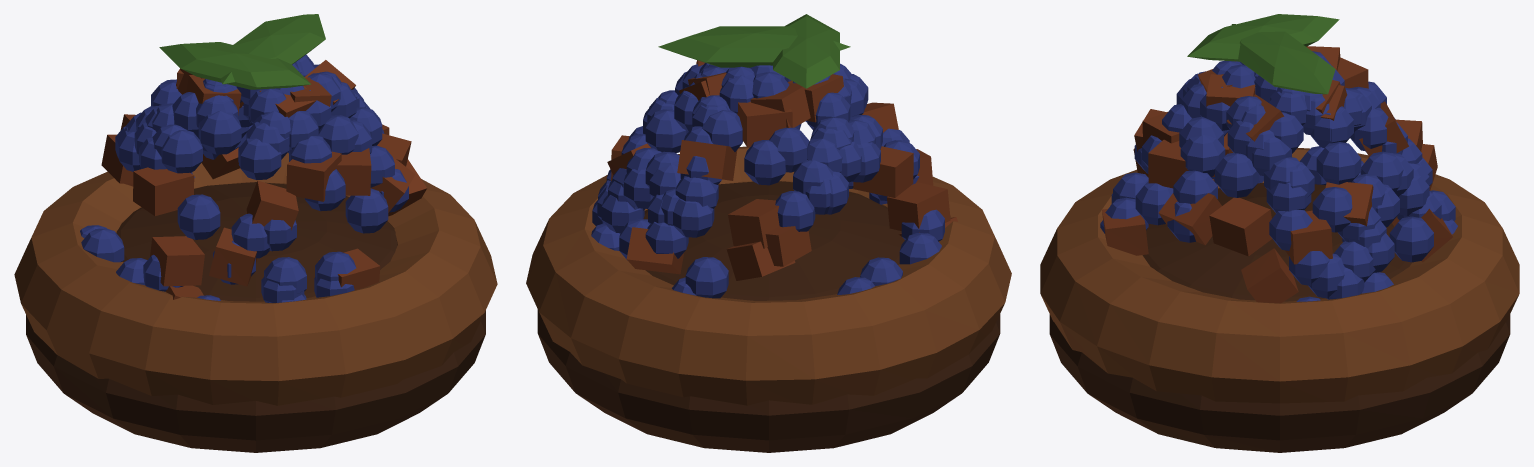
Rendered from VFP_Secret_GraveShroom.obj.
3 views of the same model, side by side, from view 1: azimuth 30°, elevation 25°; view 2: azimuth 150°, elevation 25°; view 3: azimuth 270°, elevation 25° (orthographic).
Parts seen in each view (by area): view 1: Cap, Berries, Under, Meat, Leaves; view 2: Cap, Berries, Under, Meat, Leaves; view 3: Cap, Berries, Under, Meat, Leaves.
Part boxes in pixels (x1,y1,x2,y2): Cap: (14, 152, 497, 405); Berries: (80, 54, 408, 303); Under: (26, 182, 485, 452); Meat: (101, 60, 427, 299); Leaves: (159, 14, 325, 89); Cap: (526, 146, 1011, 405); Berries: (591, 63, 944, 298); Under: (537, 181, 1000, 452); Meat: (607, 60, 957, 280); Leaves: (658, 14, 850, 88); Cap: (1040, 148, 1519, 403); Berries: (1100, 51, 1457, 301); Under: (1049, 183, 1510, 452); Meat: (1102, 46, 1452, 303); Leaves: (1187, 14, 1339, 94).
Size of the model in its own units: 0.29 by 0.247 by 0.287.
